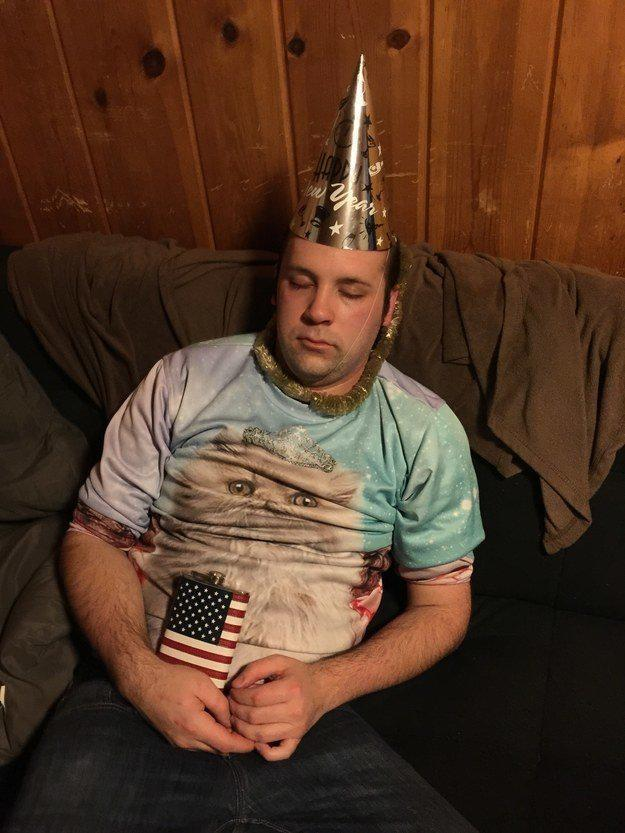Drunk: (276, 242, 381, 374)
